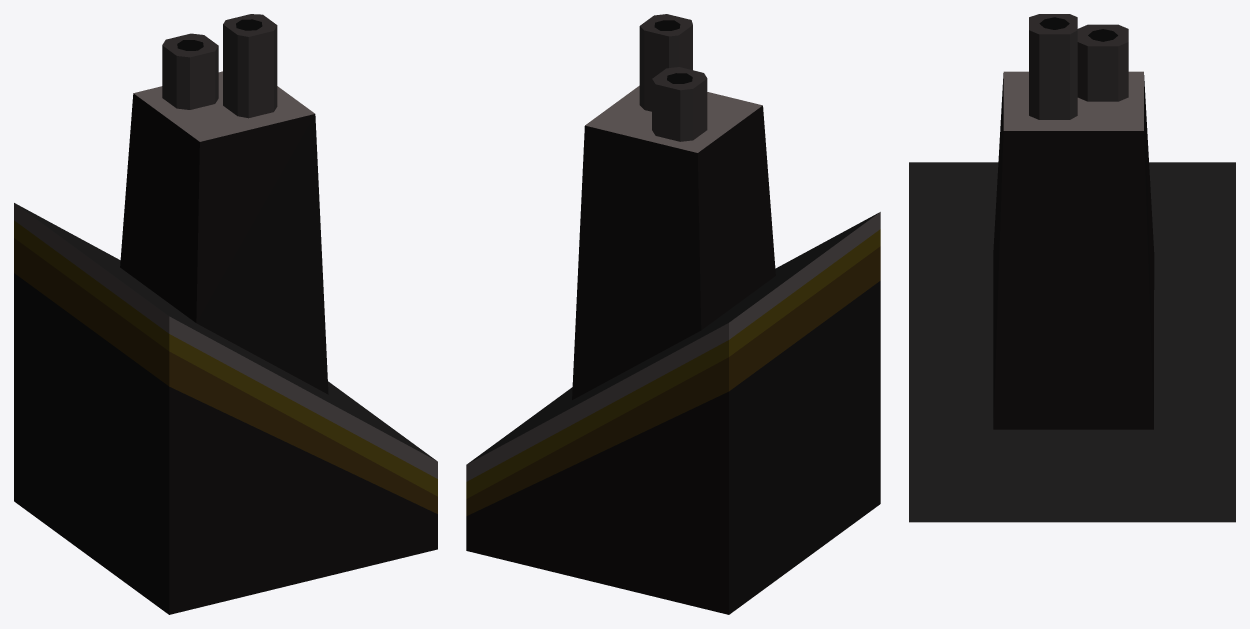
3 renders of one model, left to right at view 1: azimuth 30°, elevation 25°; view 2: azimuth 150°, elevation 25°; view 3: azimuth 270°, elevation 25°, orthographic. The views are drawn at different scales.
Size of the model in its own units: 1 by 1.79 by 1.
